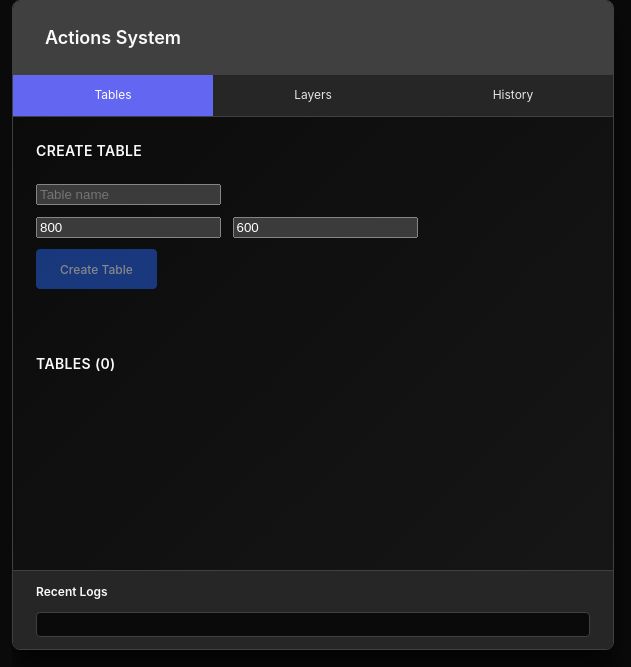
ActionsPanel — History tab › switches to History tab and shows undo/redo/batch/refresh buttons
This screenshot has width=631, height=667.
Step 1. Click the button "History" → x=513, y=96, box [413,75,613,116]
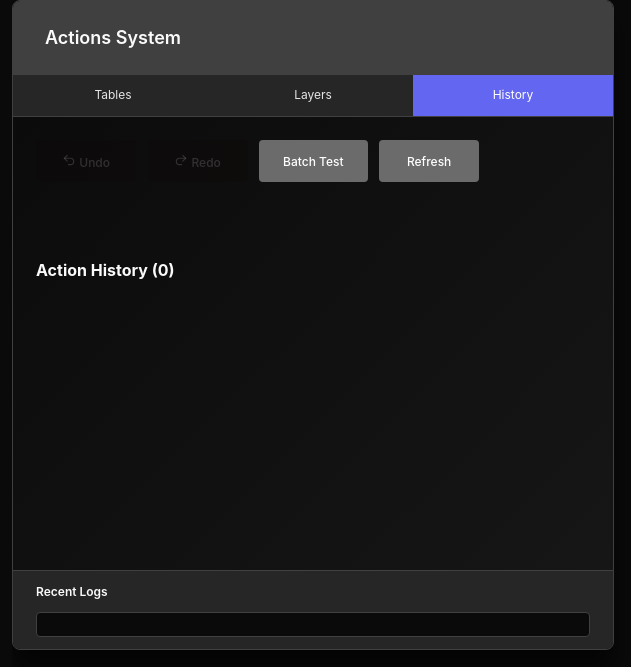
Check: the button "Undo" is shown, box [36,140,136,182]
Check: the button "Redo" is shown, box [148,140,248,182]
Check: the button "Batch Test" is shown, box [259,140,368,182]
